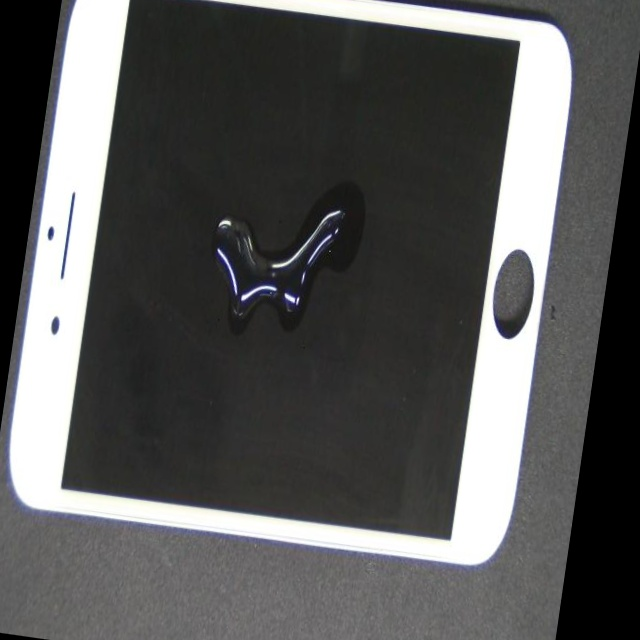oil: (120, 144, 460, 505)
